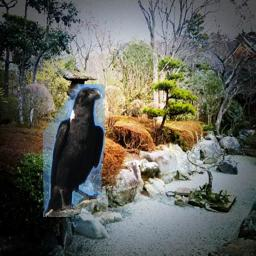Crow: (43, 84, 105, 217)
